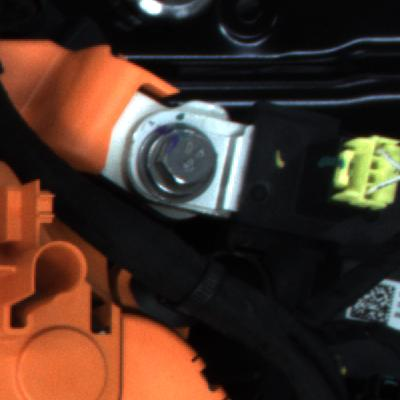nut_b: (132, 119, 222, 212)
